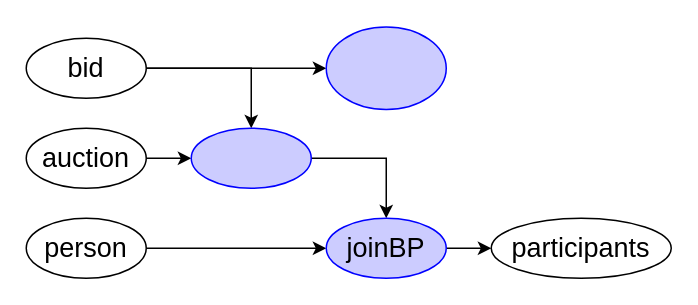
The diagram is 698 pixels wide and 305 high, and some of its shapes have lost their labels. Here are the shapes that lost their labels. From the top down, the centre of each, then its label:
(385,68): fraud metric
(250,157): joinBA
